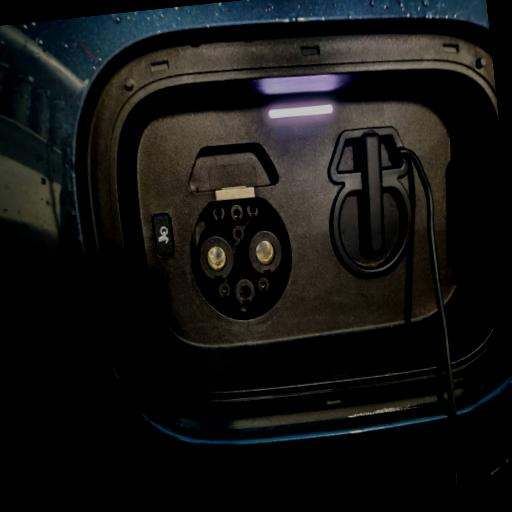DC_charging_port: (183, 191, 300, 330)
DC_hole: (244, 228, 286, 278), (196, 234, 236, 282)
PE: (232, 276, 258, 308)
